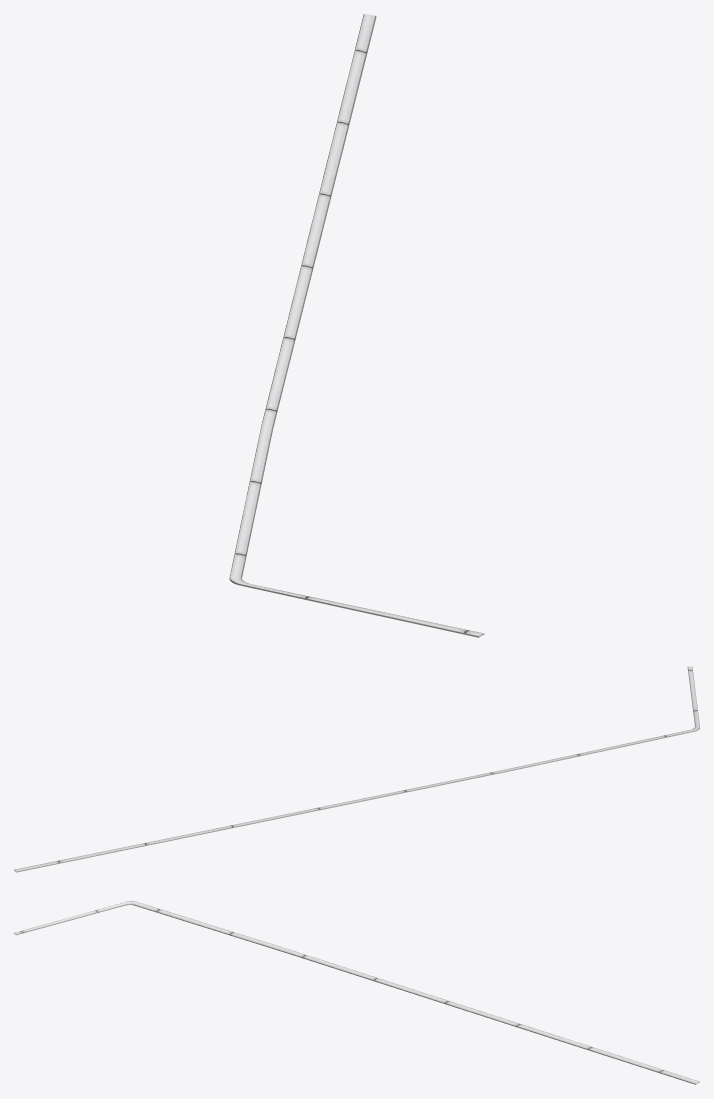
Rendered from STA20_RAILINGOfficeC01.FBX.
3 renders of one model, top to bottom at view 1: azimuth 30°, elevation 25°; view 2: azimuth 150°, elevation 25°; view 3: azimuth 270°, elevation 25°, orthographic. The views are drawn at different scales.
Parts seen in each view (by area): view 1: STA20_RAILINGOfficeC01; view 2: STA20_RAILINGOfficeC01; view 3: STA20_RAILINGOfficeC01.
Part boxes in pixels (bbox=[...]): STA20_RAILINGOfficeC01: bbox=[229, 14, 484, 637]; STA20_RAILINGOfficeC01: bbox=[14, 666, 699, 872]; STA20_RAILINGOfficeC01: bbox=[14, 901, 699, 1084].
Bounding box in the file's own units: 22.97 × 0.6829 × 38.52.
